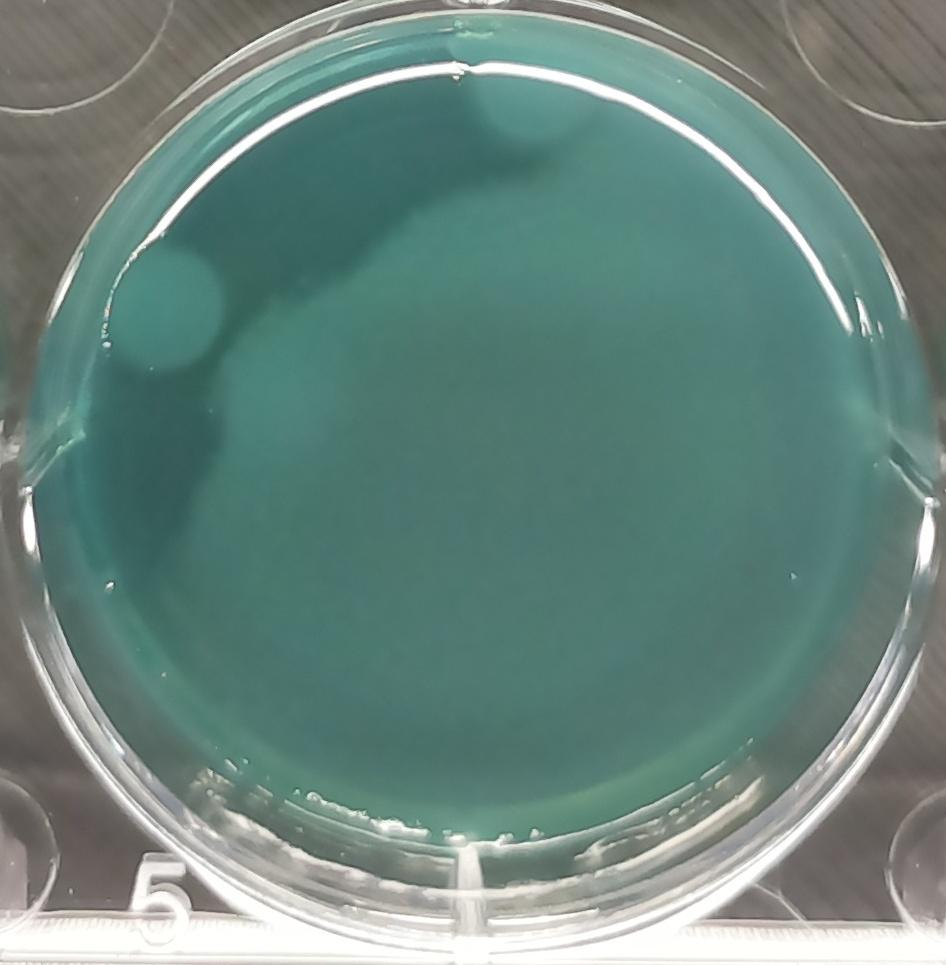vproteolyticus: (95, 225, 240, 379), (440, 50, 611, 163)
